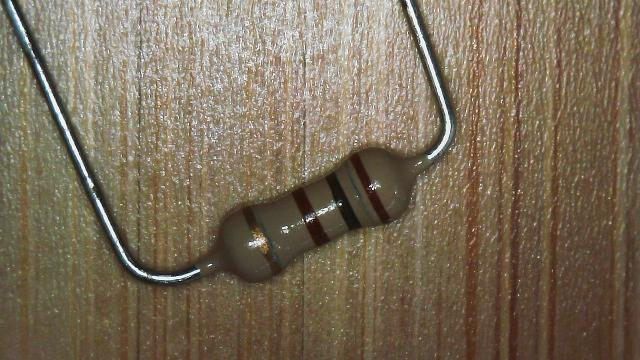black: (332, 182, 353, 231)
brown: (354, 159, 382, 219), (294, 185, 322, 244)
gold: (247, 206, 274, 278)
resistor: (174, 105, 458, 323)
